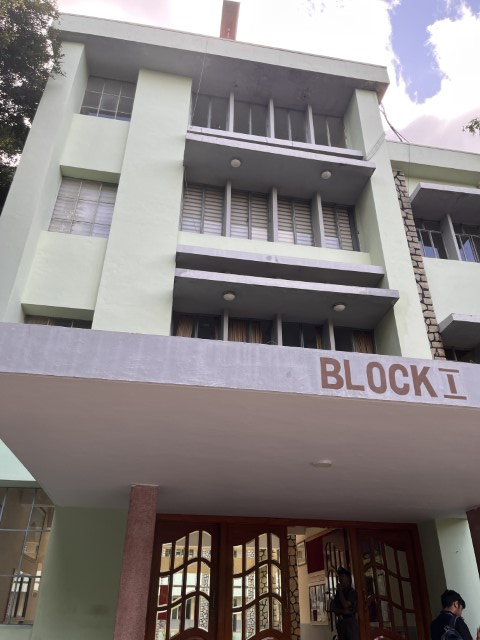Block 1: (13, 3, 480, 640)
